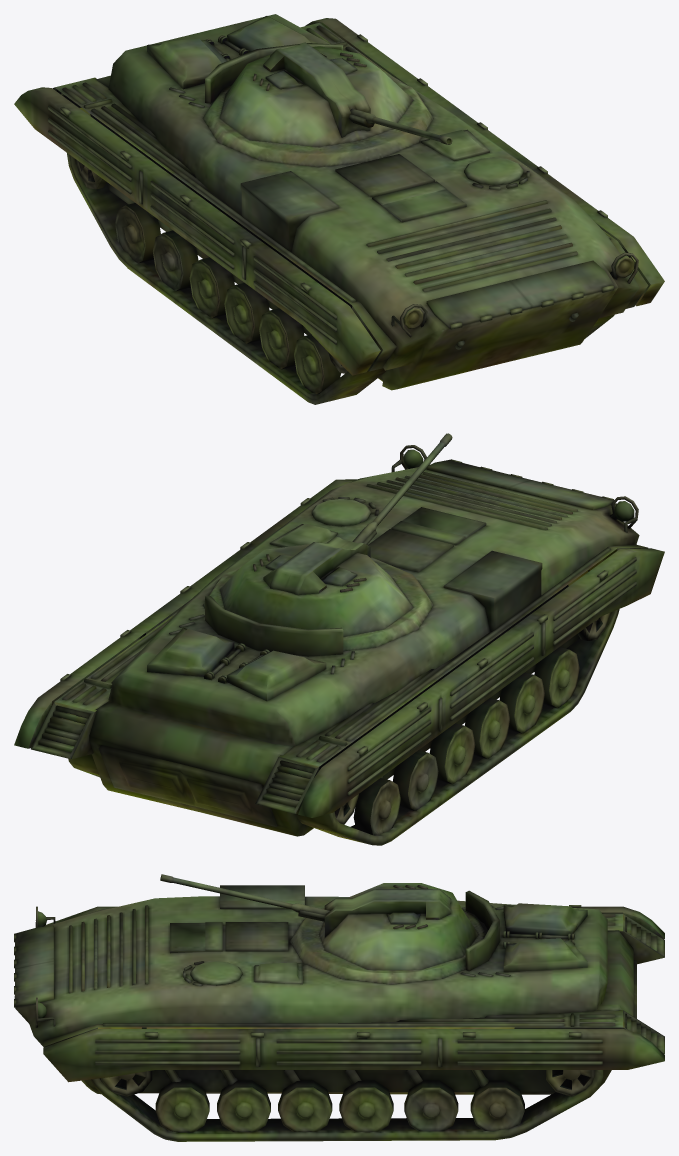
Rendered from Mech. Inf..glb.
3 views of the same model, one above another, from view 1: azimuth 30°, elevation 25°; view 2: azimuth 150°, elevation 25°; view 3: azimuth 270°, elevation 25° (orthographic). The views are drawn at different scales.
Visible parts, largest first — view 1: Plane.002; view 2: Plane.002; view 3: Plane.002.
Part boxes in pixels (box(x1,y1,x2,y2)): Plane.002: box(14, 14, 664, 404); Plane.002: box(14, 433, 664, 845); Plane.002: box(14, 874, 664, 1141).
Bounding box in the file's own units: 1.62 × 1.23 × 3.45.
1 material, 1 textured.
